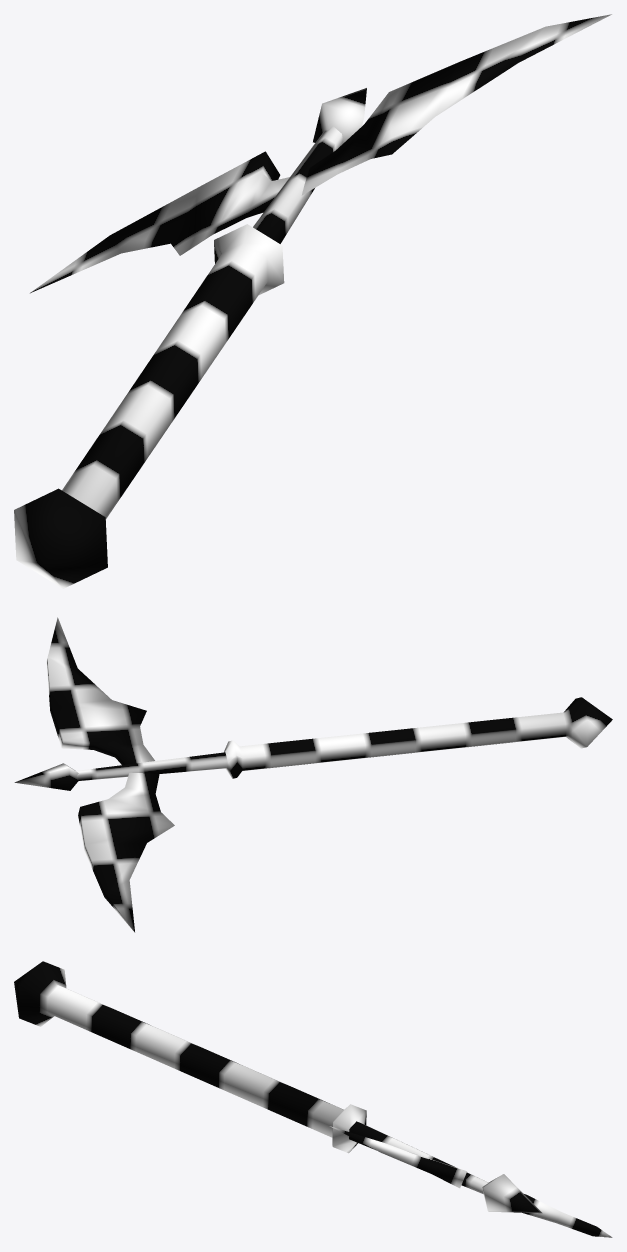
The model's file is initqi29.dae.
3 renders of one model, top to bottom at view 1: azimuth 30°, elevation 25°; view 2: azimuth 150°, elevation 25°; view 3: azimuth 270°, elevation 25°, orthographic. The views are drawn at different scales.
Parts seen in each view (by area): view 1: item; view 2: item; view 3: item.
Boxes of the visible parts, x1,y1,x2,y2 form: item: (14, 14, 611, 588); item: (14, 617, 612, 932); item: (14, 961, 612, 1237).
Bounding box in the file's own units: 1.4 × 1.38 × 0.5771.
Materials: 1 (1 with a texture image).
